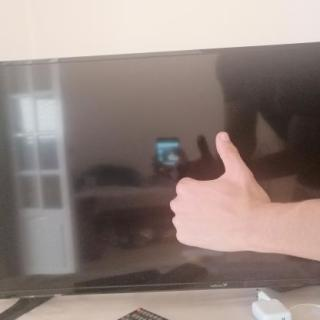ALIF: (155, 120, 273, 260)
